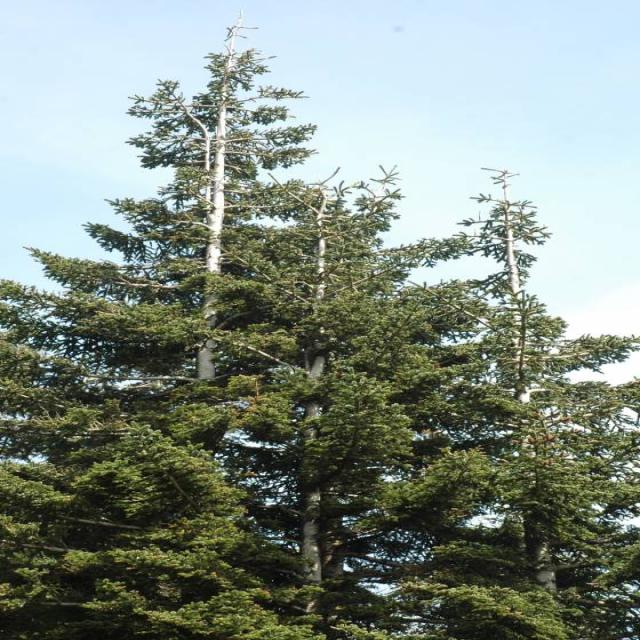Abies: (41, 38, 323, 632)
